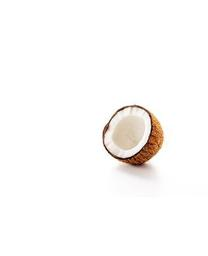coconut: (102, 105, 165, 166)
